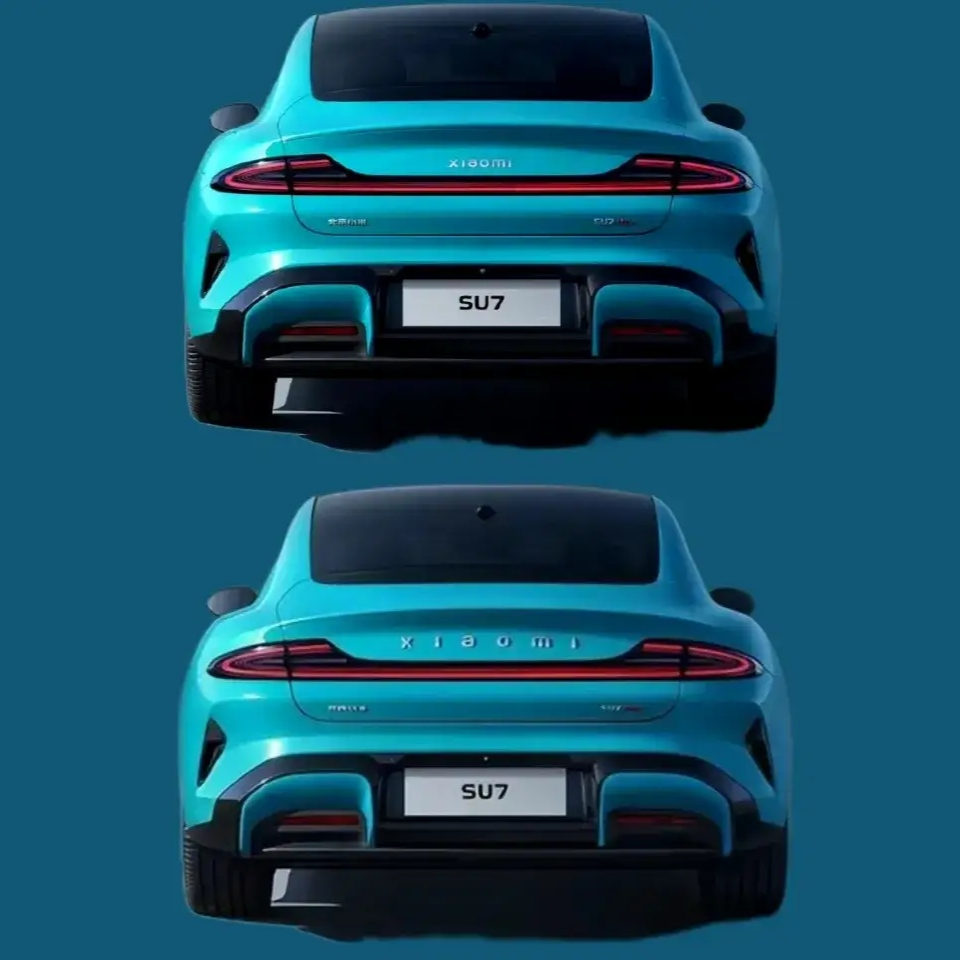su7: (183, 479, 796, 931), (168, 4, 784, 434)
